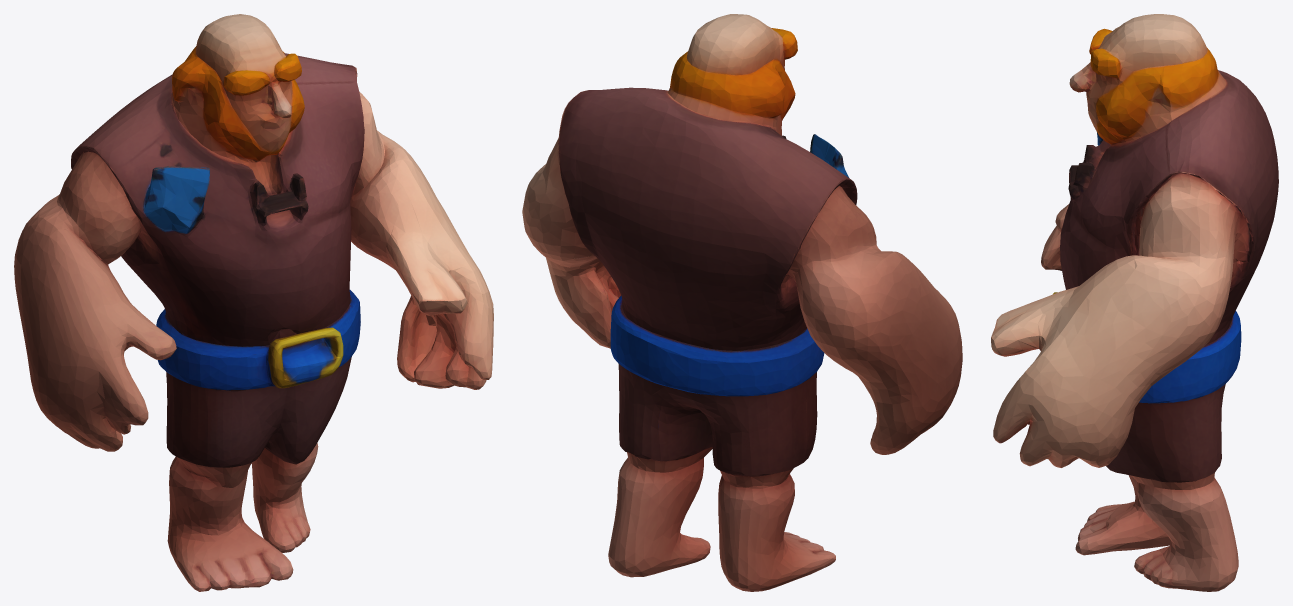
File: giant_frame_11.glb
3 views of the same model, side by side, from view 1: azimuth 30°, elevation 25°; view 2: azimuth 150°, elevation 25°; view 3: azimuth 270°, elevation 25° (orthographic). The views are drawn at different scales.
Visible parts, largest first — view 1: world; view 2: world; view 3: world.
Part boxes in pixels (x1,y1,x2,y2): world: [14, 14, 493, 591]; world: [522, 14, 962, 591]; world: [991, 14, 1278, 591].
Bounding box in the file's own units: 0.801 × 0.9999 × 0.488.
1 material, 1 textured.
